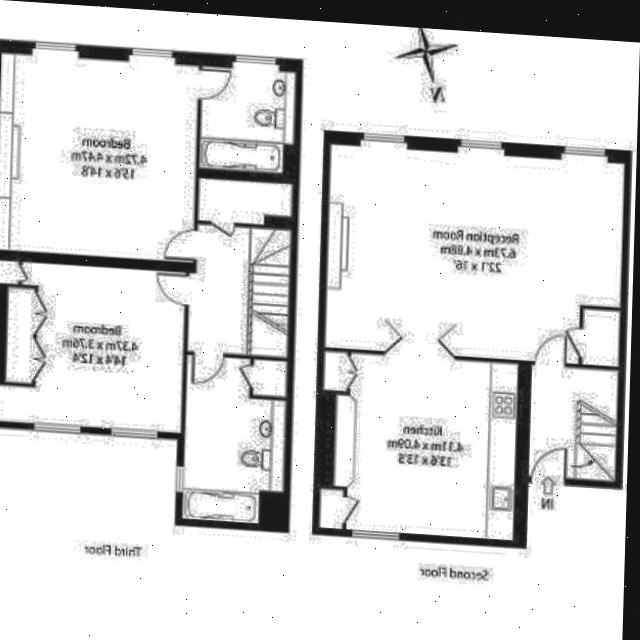room: (319, 145, 631, 366), (0, 52, 206, 262), (314, 352, 525, 541), (0, 262, 191, 433), (182, 355, 286, 524), (192, 225, 290, 356), (195, 67, 297, 174), (529, 366, 618, 481), (197, 178, 293, 227)
